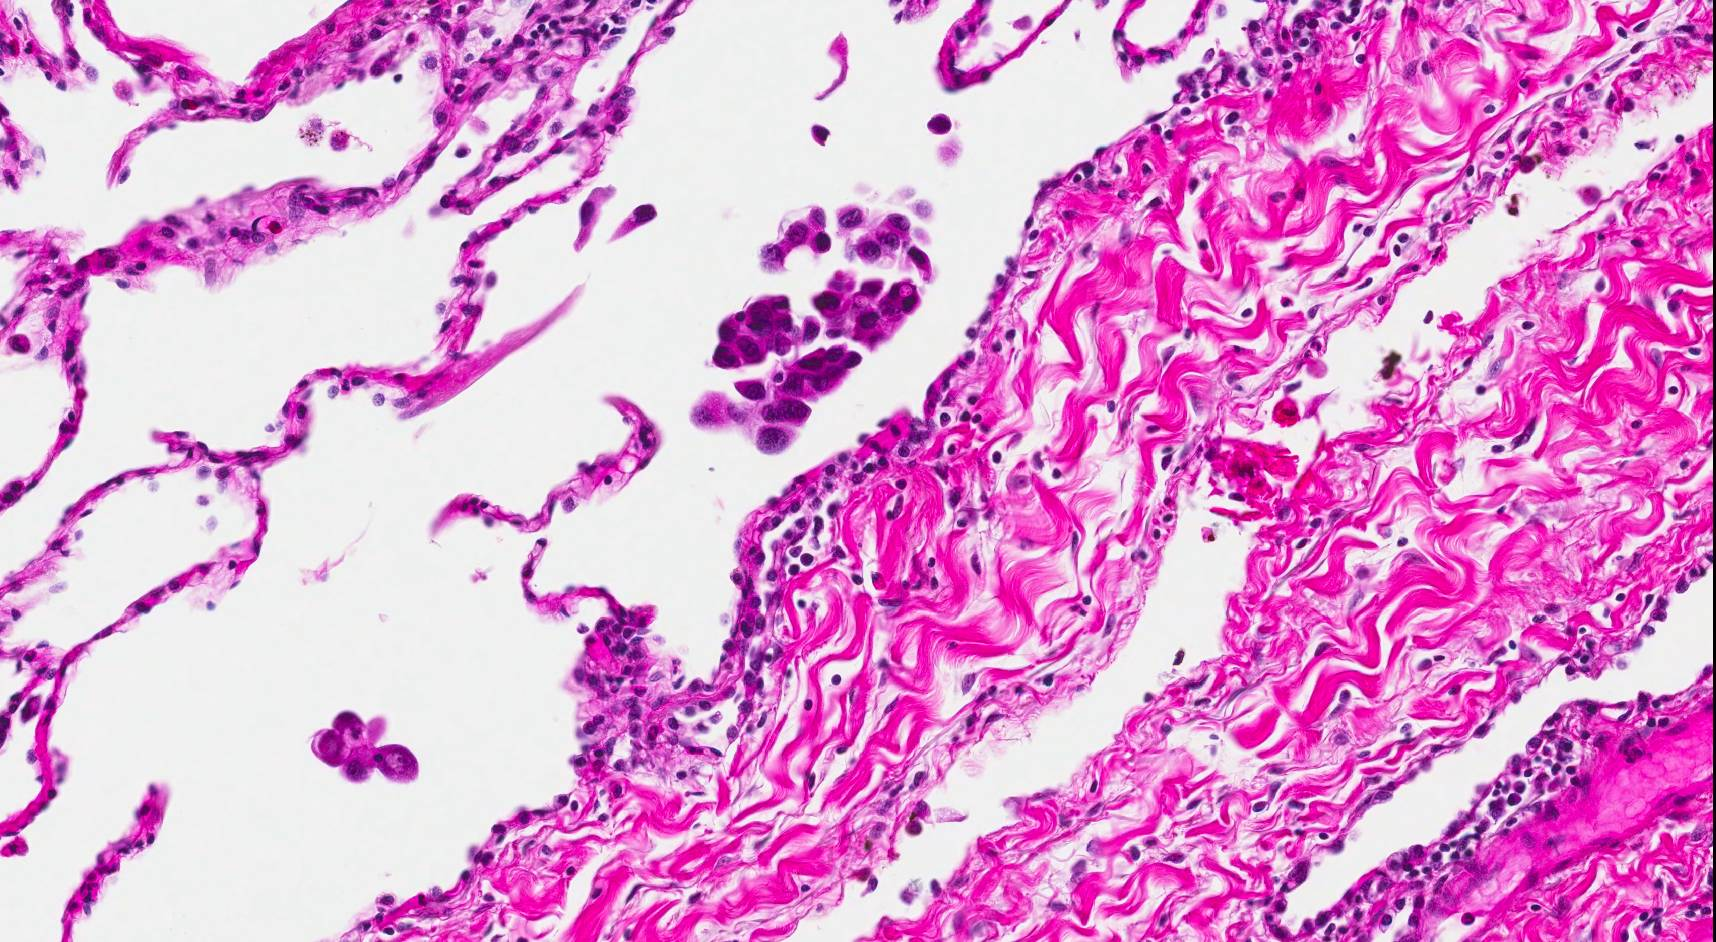stas: (691, 345, 864, 452), (757, 200, 936, 279), (308, 707, 423, 789), (809, 272, 925, 350), (712, 295, 821, 371), (573, 184, 658, 250)
